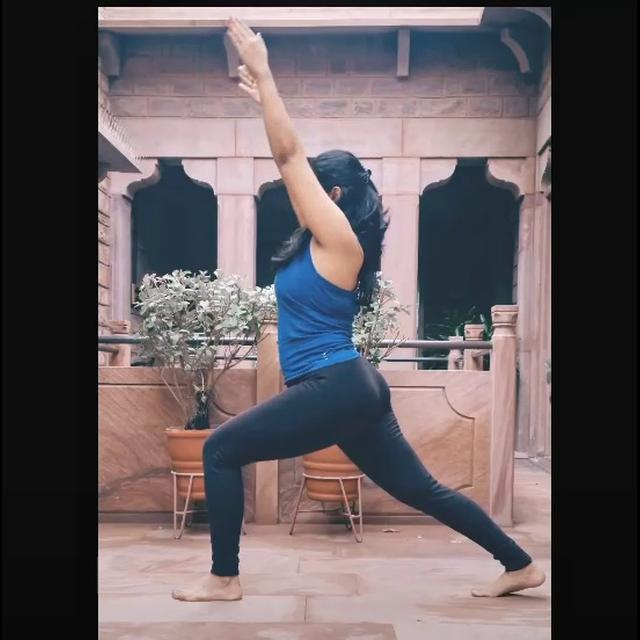Warrior_I: (167, 9, 549, 612)
